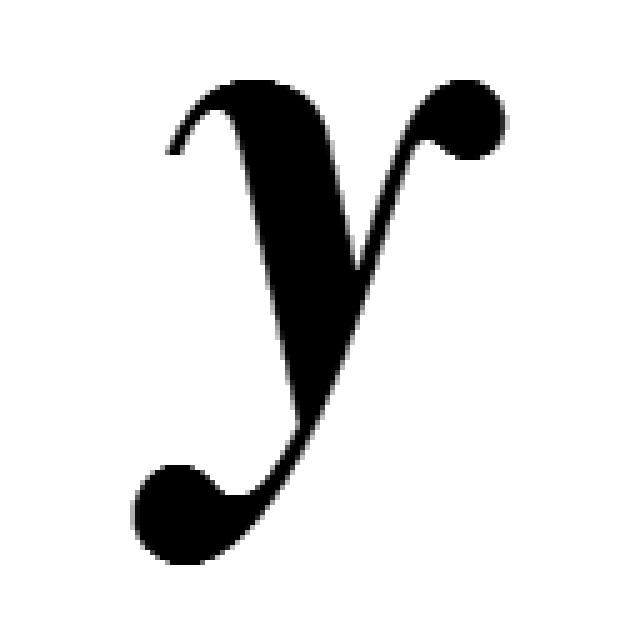Y: (120, 65, 510, 570)
